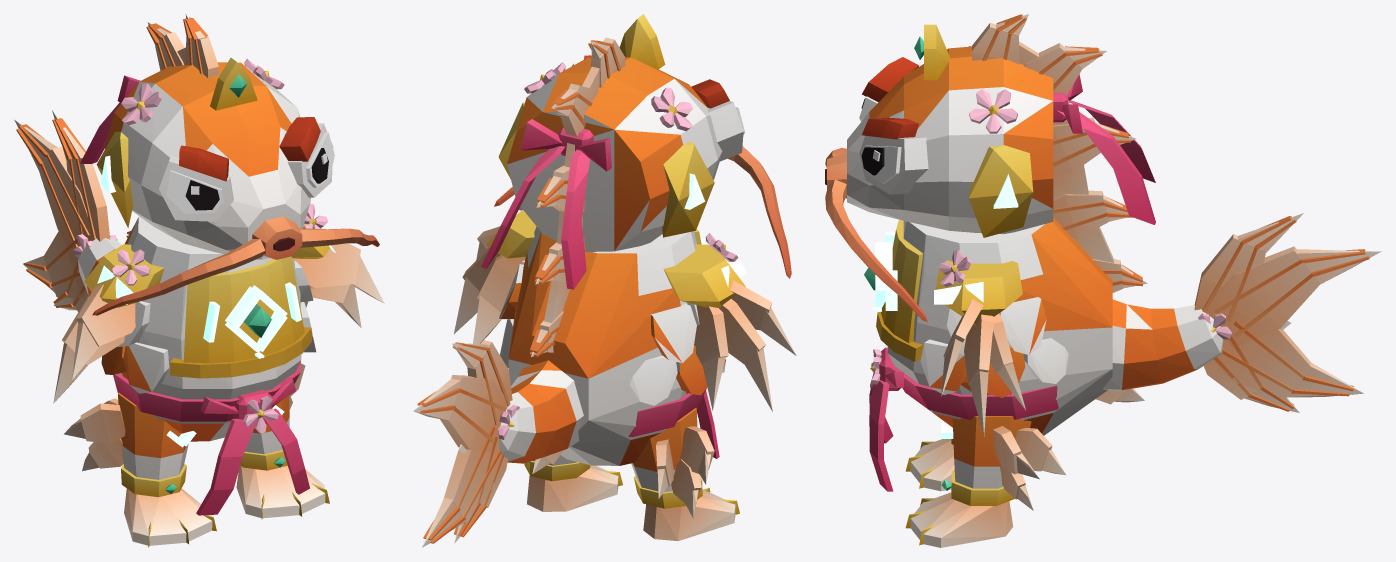
File: KoiKicker.glb
The picture shows the model from 3 angles, left to right: view 1: azimuth 30°, elevation 25°; view 2: azimuth 150°, elevation 25°; view 3: azimuth 270°, elevation 25°; orthographic projection. The views are drawn at different scales.
Parts seen in each view (by area): view 1: KoiKicker; view 2: KoiKicker; view 3: KoiKicker.
Part boxes in pixels (x1,y1,x2,y2): KoiKicker: (14, 14, 384, 547); KoiKicker: (413, 14, 796, 547); KoiKicker: (825, 14, 1381, 547).
Size of the model in its own units: 0.747 by 1.08 by 1.12.
1 material, 1 textured.
